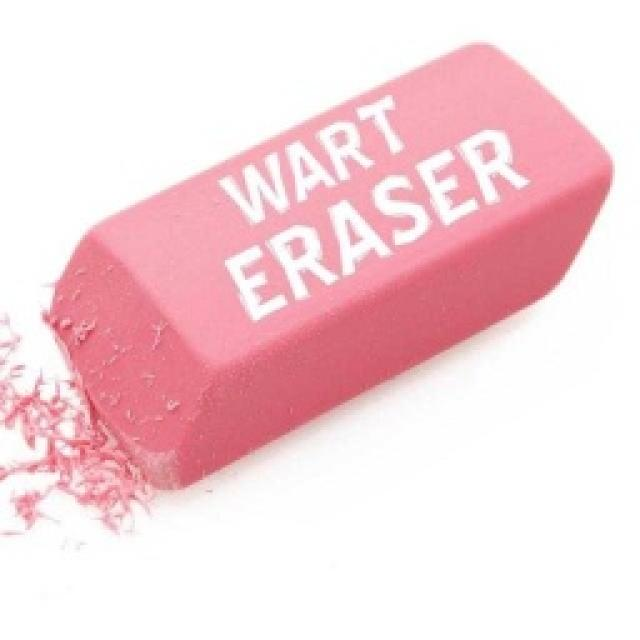Silgi: (54, 38, 611, 488)
